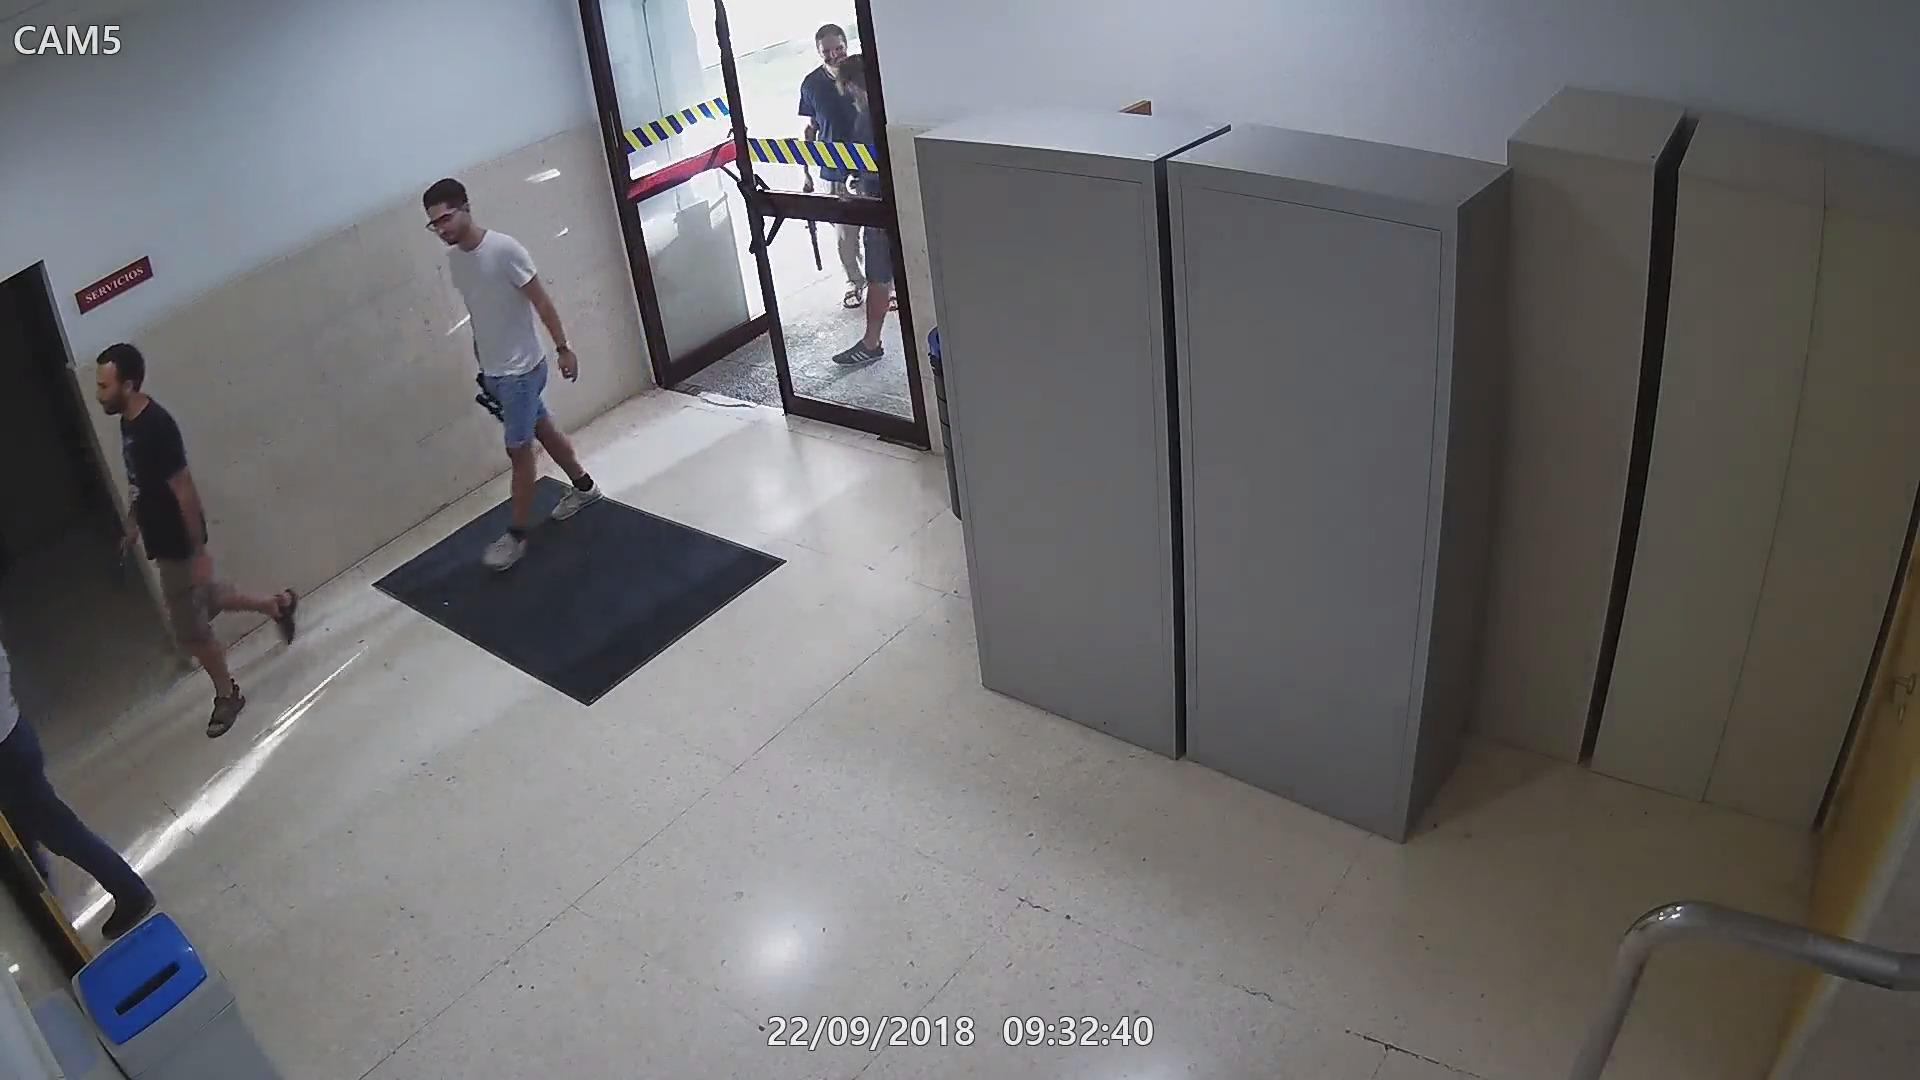Handgun: (102, 521, 141, 571)
